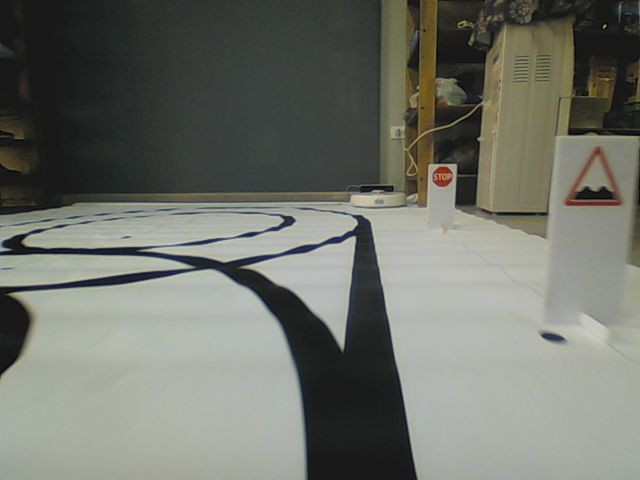Stop: (431, 165, 453, 188)
